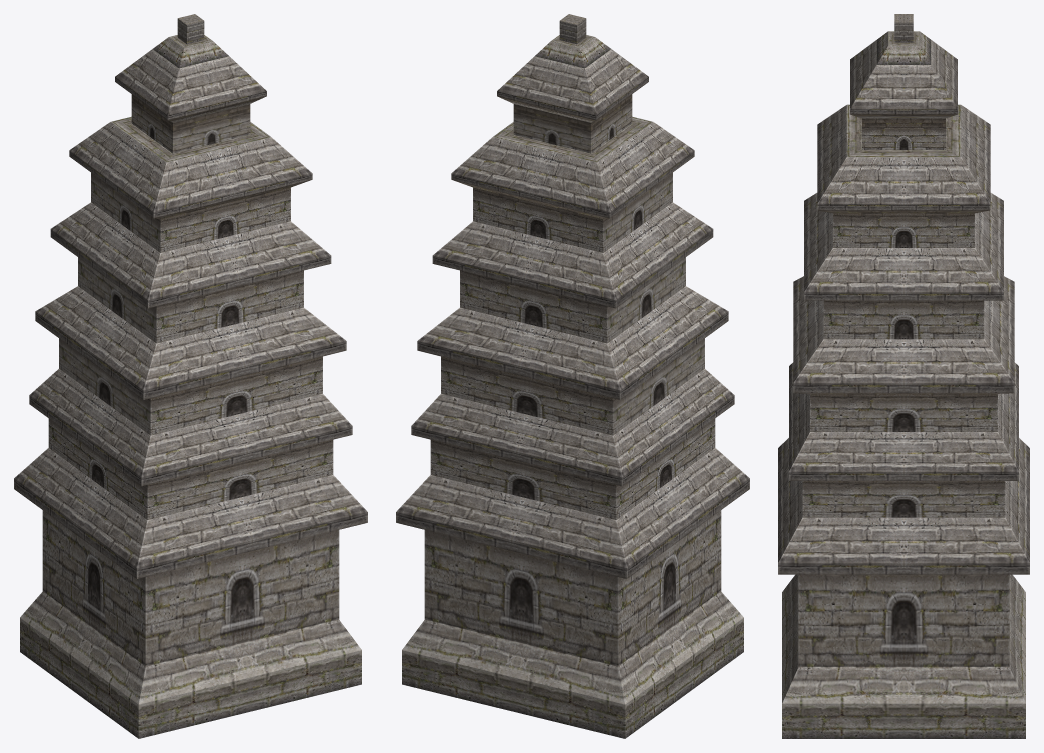
Rendered from Hangzhou_wj_066.FBX.
3 views of the same model, side by side, from view 1: azimuth 30°, elevation 25°; view 2: azimuth 150°, elevation 25°; view 3: azimuth 270°, elevation 25° (orthographic). The views are drawn at different scales.
Parts seen in each view (by area): view 1: Object07; view 2: Object07; view 3: Object07.
Boxes of the visible parts, <box> form: Object07: <box>14,14,367,738</box>; Object07: <box>396,14,749,738</box>; Object07: <box>778,14,1029,738</box>.
Size of the model in its own units: 302 by 812 by 279.
Materials: 1 (1 with a texture image).
